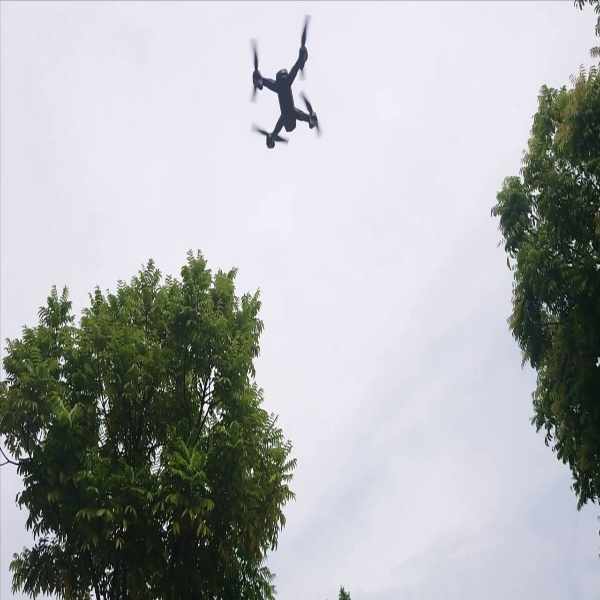drone: (243, 11, 330, 153)
